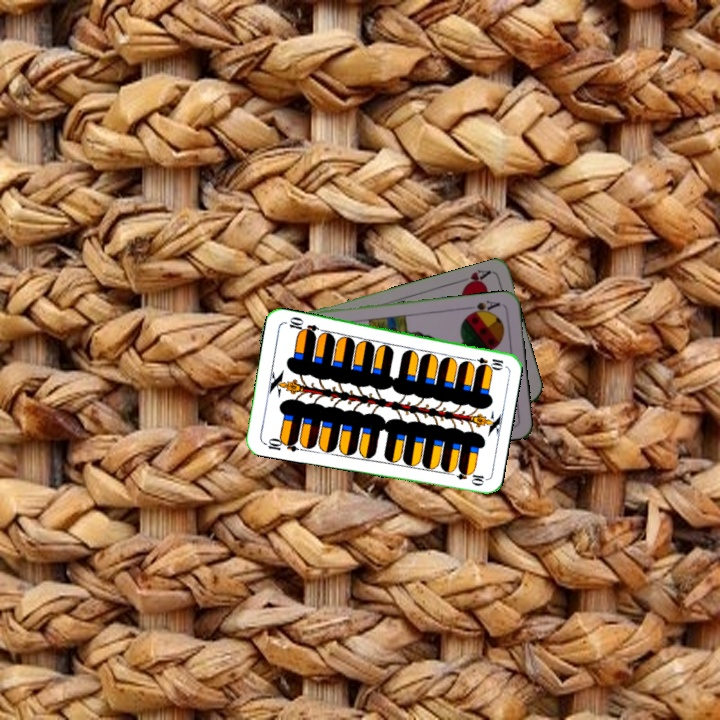E10: (260, 434, 300, 455), (465, 353, 506, 370)
HA: (459, 266, 494, 291)
SA: (464, 296, 503, 318)
